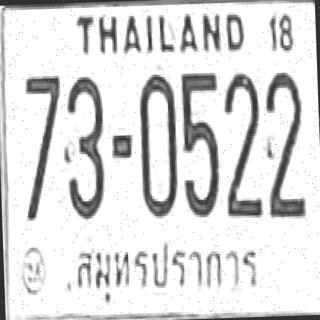N00: (137, 71, 178, 219)
N02: (262, 68, 306, 213), (221, 75, 262, 217), (262, 70, 305, 202), (221, 71, 262, 204)
N03: (60, 74, 107, 220)
N05: (179, 70, 222, 217)
N07: (21, 73, 64, 220)
P57: (63, 228, 265, 309)
